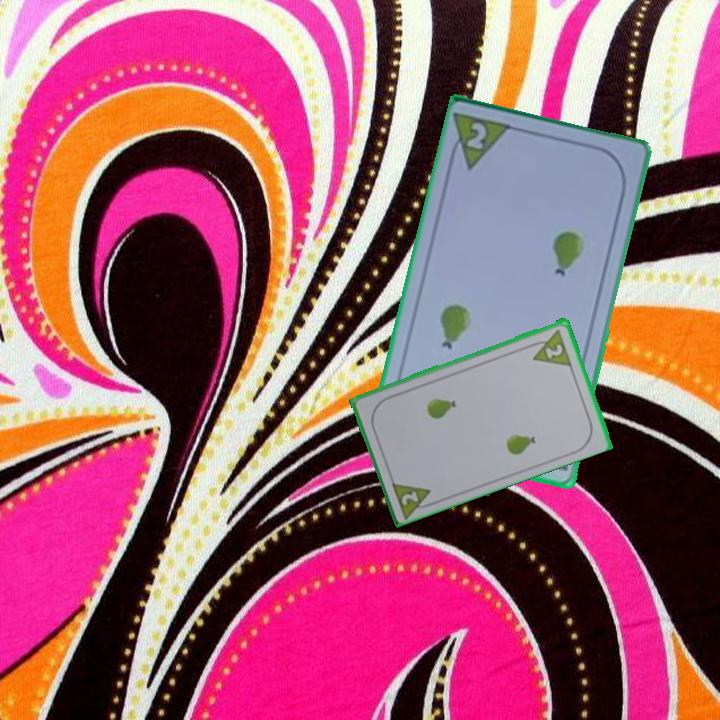2p: (387, 476, 439, 519), (525, 325, 575, 369), (463, 118, 490, 153)
